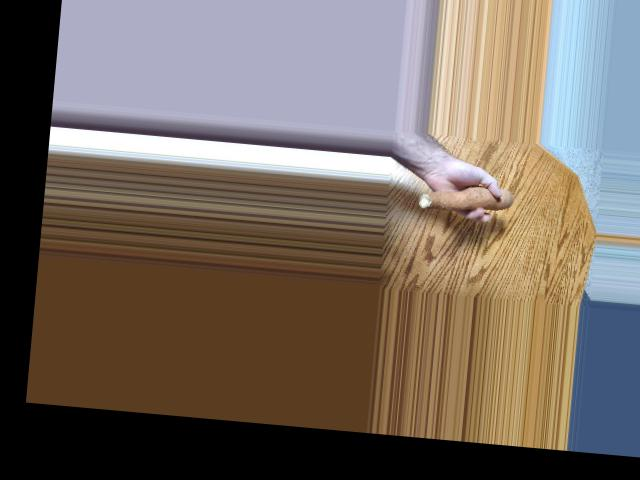sweet_potato: (425, 180, 508, 217)
